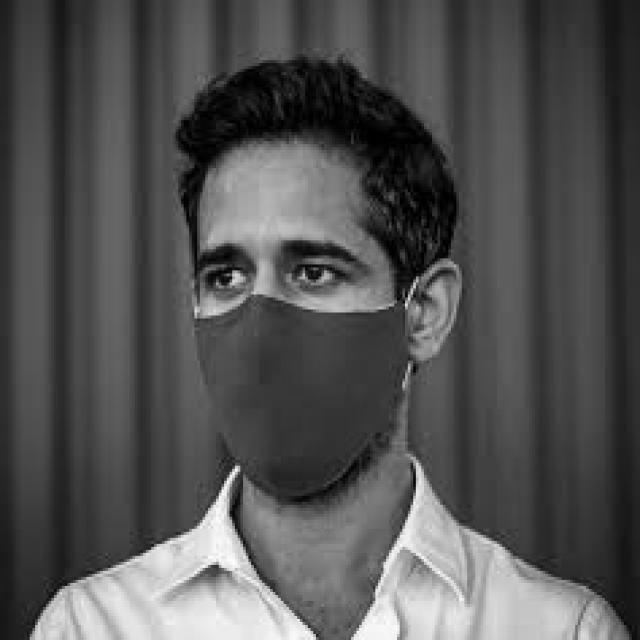fake: (182, 292, 416, 505)
real: (197, 135, 403, 509)
